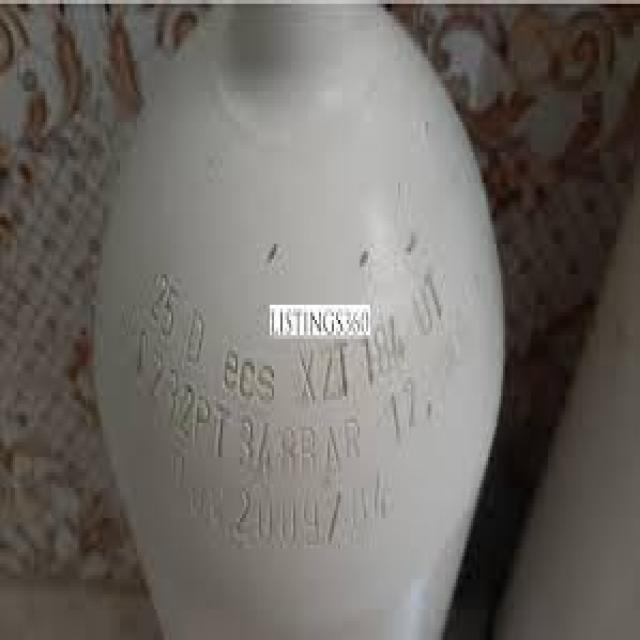ocr: (136, 272, 445, 549)
